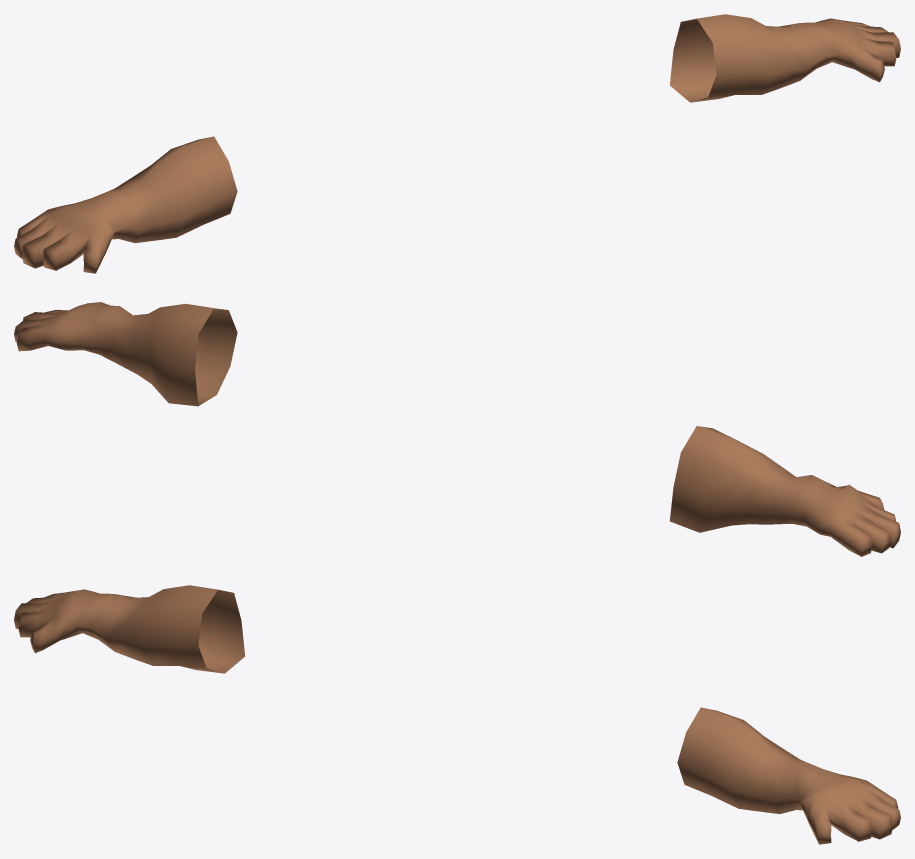
Rendered from morehandsseperated.fbx.
3 renders of one model, top to bottom at view 1: azimuth 30°, elevation 25°; view 2: azimuth 150°, elevation 25°; view 3: azimuth 330°, elevation 25°, orthographic.
Visible parts, largest first — view 1: handOne, handTwo; view 2: handOne, handTwo; view 3: handTwo, handOne.
Boxes of the visible parts, <box> form: handOne: <box>14,136,237,273</box>; handTwo: <box>669,14,900,102</box>; handOne: <box>670,426,900,556</box>; handTwo: <box>14,302,237,406</box>; handTwo: <box>677,707,900,844</box>; handOne: <box>14,585,245,673</box>.
Size of the model in its own units: 731 by 69.84 by 80.3.
1 material, 1 textured.
